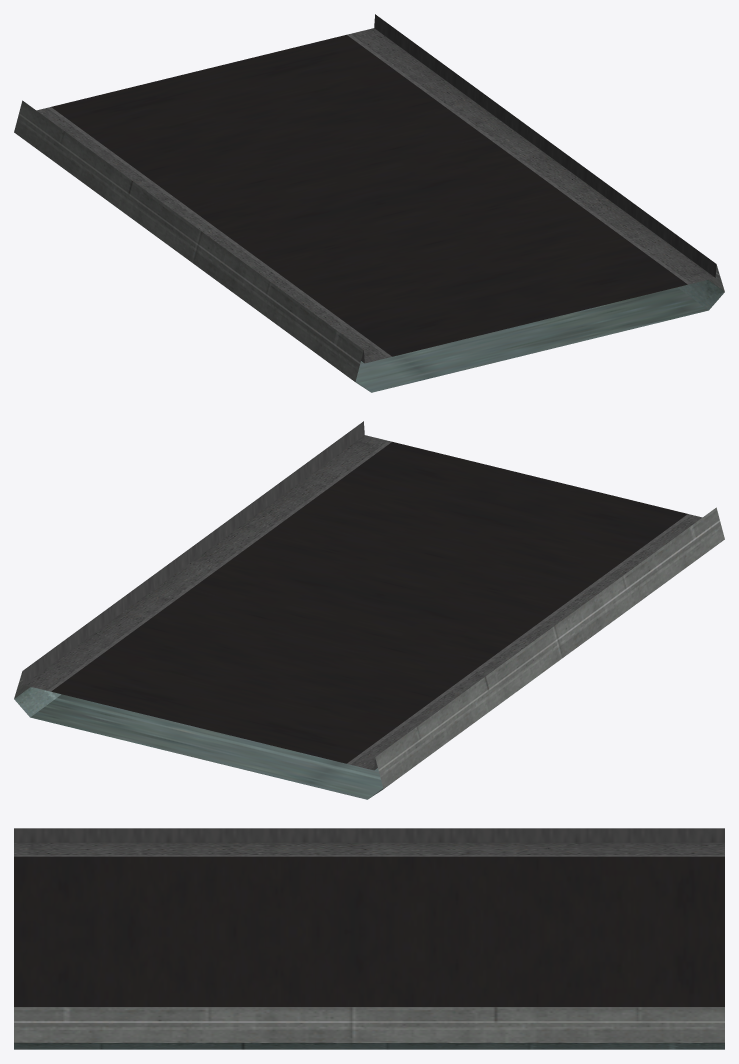
The model's file is RJs_Road 4+4 Elevated Node_lod.fbx.
3 views of the same model, one above another, from view 1: azimuth 30°, elevation 25°; view 2: azimuth 150°, elevation 25°; view 3: azimuth 270°, elevation 25° (orthographic). The views are drawn at different scales.
Visible parts, largest first — view 1: plane_lod; view 2: plane_lod; view 3: plane_lod.
Boxes of the visible parts, bbox=[...] form: plane_lod: bbox=[14, 14, 724, 392]; plane_lod: bbox=[14, 421, 724, 799]; plane_lod: bbox=[14, 828, 724, 1049].
Size of the model in its own units: 4000 by 6400 by 462.
